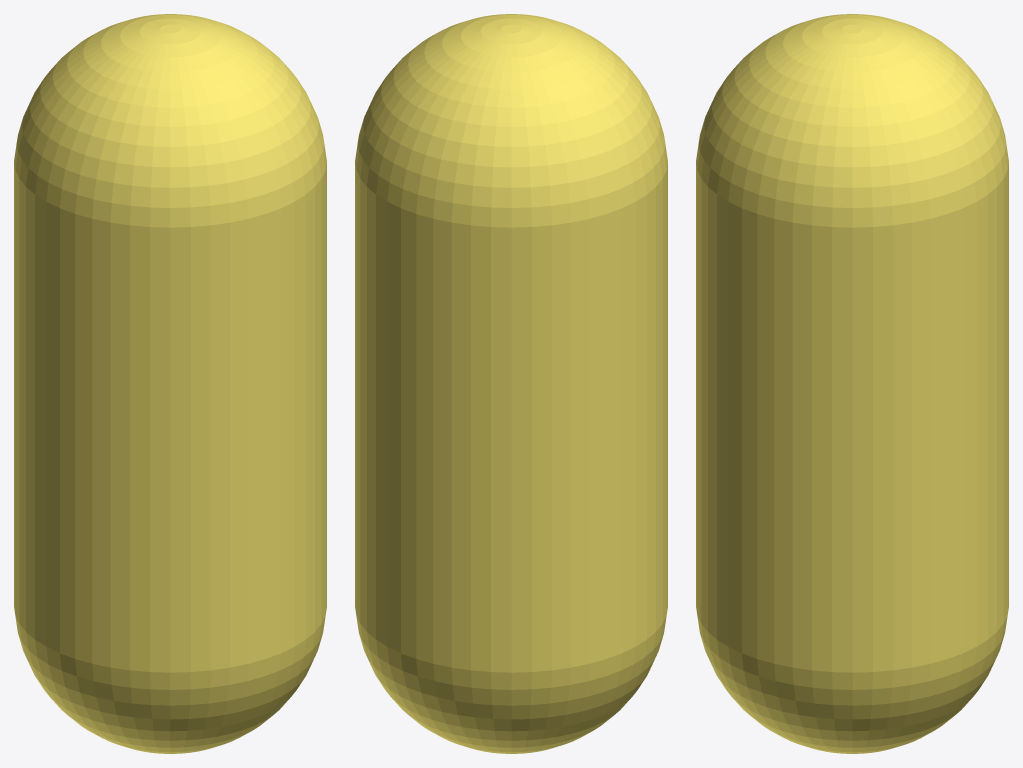
The picture shows the model from 3 angles, left to right: view 1: azimuth 30°, elevation 25°; view 2: azimuth 150°, elevation 25°; view 3: azimuth 270°, elevation 25°; orthographic projection.
Size of the model in its own units: 11.97 by 29.97 by 11.97.
